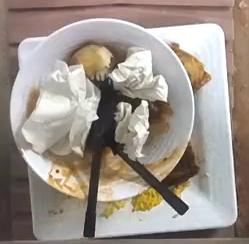pork: (169, 42, 209, 88)
potato: (71, 45, 113, 81)
rice: (132, 188, 163, 211)
unknown: (161, 142, 199, 186)
